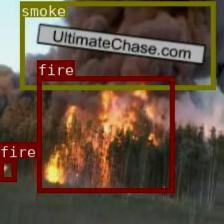fire: (37, 76, 174, 191), (0, 157, 16, 181)
smoke: (19, 1, 214, 88)
